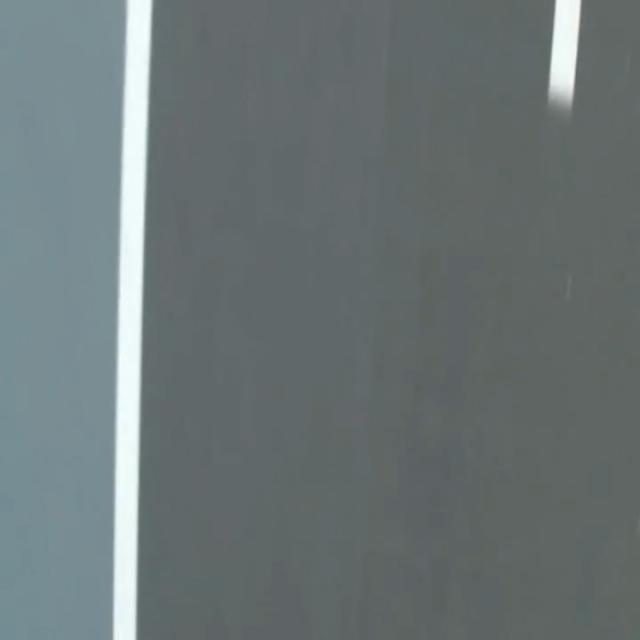center: (548, 0, 580, 111)
left: (113, 0, 152, 639)
